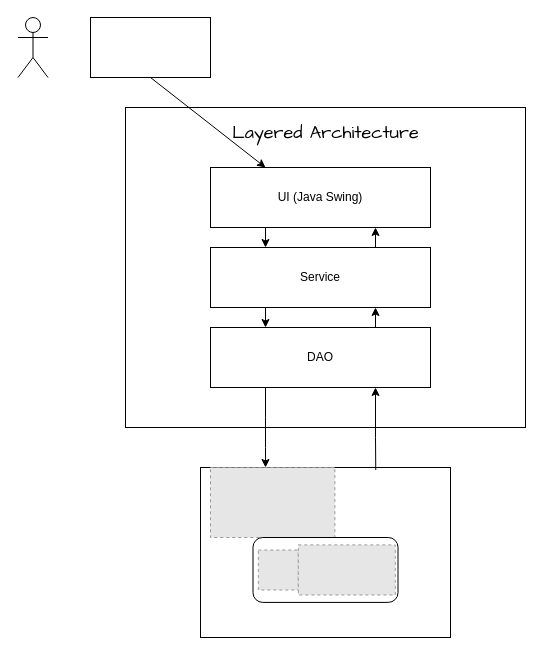
Image size: 543x655. Some labels were removed from this diagram. Grey dashed boxes stand in for pictures. The shapes that lost their labels are listed below. From the top down, each one's centre as x and y in pixels, then its label:
At [32,47]: "Actor".
At [150,47]: "main".
